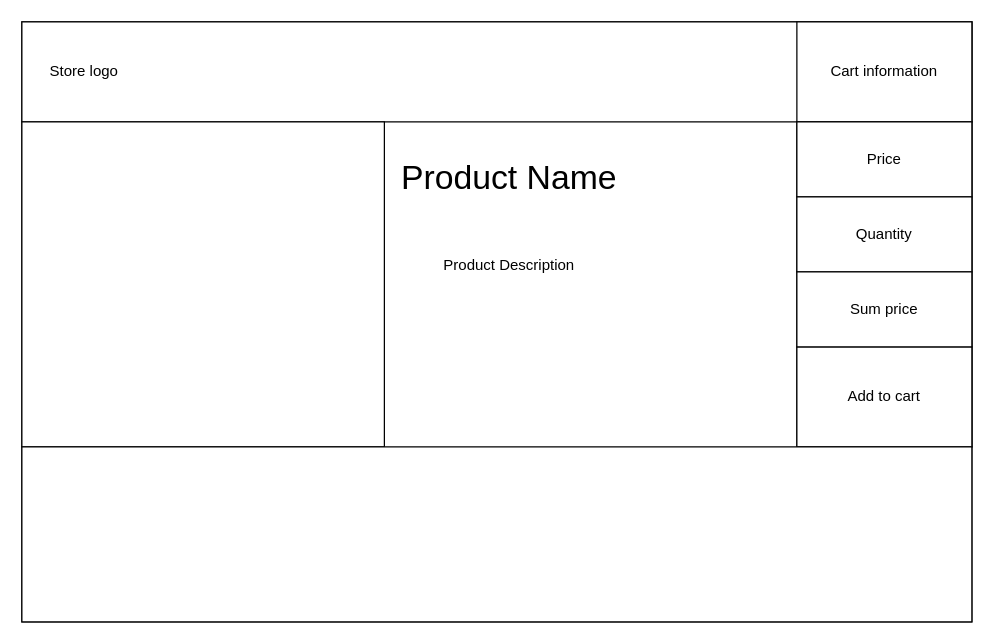
Image size: 994x644. Some labels were removed from this diagram. Here are the shapes that lost their labels. From the top down, the centre of each, then its label:
(x=202, y=284): Image
(x=496, y=534): Other items in category
